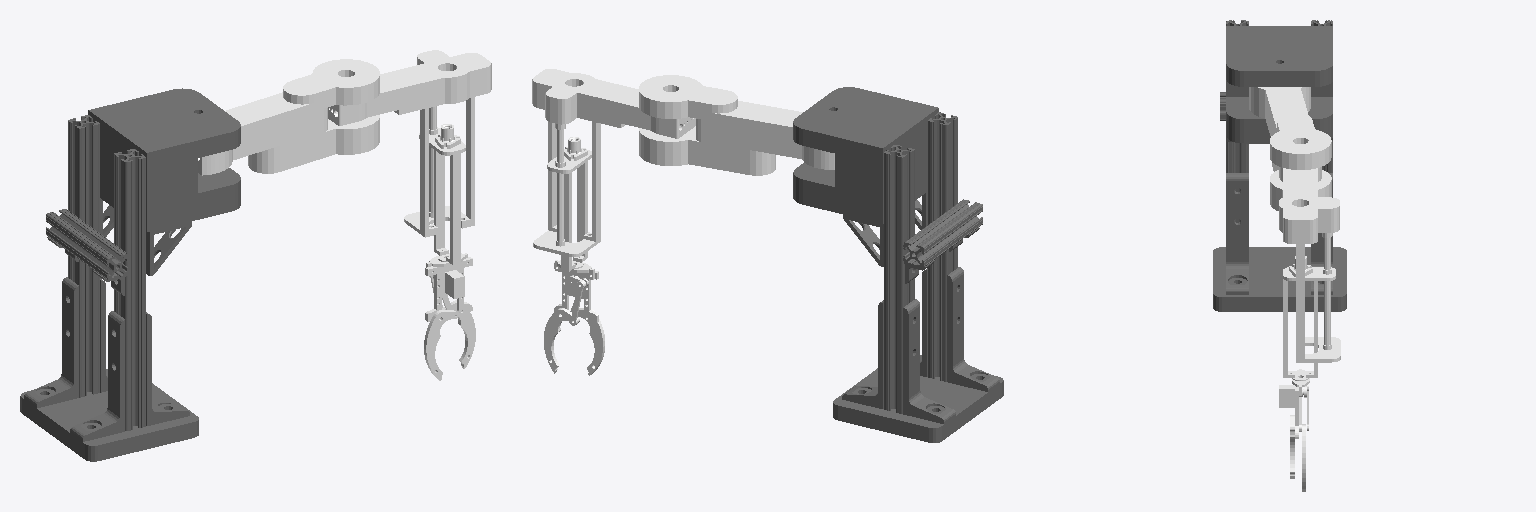
robot.urdf — RRPRv.5:
<?xml version="1.0" encoding="utf-8"?>
<!-- This URDF was automatically created by SolidWorks to URDF Exporter! Originally created by [author] ([email redacted]) 
     Commit Version: 1.5.1-0-g916b5db  Build Version: 1.5.7152.31018
     For more information, please see http://wiki.ros.org/sw_urdf_exporter -->
<robot
  name="RRPRv.5">
  <link
    name="base_link">
    <inertial>
      <origin
        xyz="0.0286663333569336 -0.000153640310158298 0.141057810420415"
        rpy="0 0 0" />
      <mass
        value="2.56495028593534" />
      <inertia
        ixx="0.00589103688522398"
        ixy="5.40553301340664E-11"
        ixz="6.43227315708912E-05"
        iyy="0.00538157308192533"
        iyz="-3.59280381550706E-12"
        izz="0.00615538322045417" />
    </inertial>
    <visual>
      <origin
        xyz="0 0 0"
        rpy="0 0 0" />
      <geometry>
        <mesh
          filename="package://RRPRv.5/meshes/base_link.STL" />
      </geometry>
      <material
        name="">
        <color
          rgba="0.501960784313725 0.501960784313725 0.501960784313725 1" />
      </material>
    </visual>
    <collision>
      <origin
        xyz="0 0 0"
        rpy="0 0 0" />
      <geometry>
        <mesh
          filename="package://RRPRv.5/meshes/base_link.STL" />
      </geometry>
    </collision>
  </link>
  <link
    name="Link1">
    <inertial>
      <origin
        xyz="0.116433954067944 0.014456832240029 0.0384712439474499"
        rpy="0 0 0" />
      <mass
        value="0.568507286781673" />
      <inertia
        ixx="0.000423004929235135"
        ixy="-0.00022516513393317"
        ixz="0.000122650311410491"
        iyy="0.00220850626547171"
        iyz="1.52286765961289E-05"
        izz="0.00210823760330215" />
    </inertial>
    <visual>
      <origin
        xyz="0 0 0"
        rpy="0 0 0" />
      <geometry>
        <mesh
          filename="package://RRPRv.5/meshes/Link1.STL" />
      </geometry>
      <material
        name="">
        <color
          rgba="1 1 1 1" />
      </material>
    </visual>
    <collision>
      <origin
        xyz="0 0 0"
        rpy="0 0 0" />
      <geometry>
        <mesh
          filename="package://RRPRv.5/meshes/Link1.STL" />
      </geometry>
    </collision>
  </link>
  <joint
    name="Joint1"
    type="revolute">
    <origin
      xyz="0.105705802967444 -0.000160096560565315 0.223882223455255"
      rpy="0 0 0" />
    <parent
      link="base_link" />
    <child
      link="Link1" />
    <axis
      xyz="0 0 1" />
    <limit
      lower="-2"
      upper="2"
      effort="0"
      velocity="1" />
  </joint>
  <link
    name="Link2">
    <inertial>
      <origin
        xyz="0.0829498912742019 0.00283016633079727 0.00977088530359427"
        rpy="0 0 0" />
      <mass
        value="0.212874058038776" />
      <inertia
        ixx="6.57074308602495E-05"
        ixy="-1.74128836487361E-05"
        ixz="8.48237883077507E-06"
        iyy="0.000390393473487716"
        iyz="7.84228298422966E-07"
        izz="0.000425987376929658" />
    </inertial>
    <visual>
      <origin
        xyz="0 0 0"
        rpy="0 0 0" />
      <geometry>
        <mesh
          filename="package://RRPRv.5/meshes/Link2.STL" />
      </geometry>
      <material
        name="">
        <color
          rgba="1 1 1 1" />
      </material>
    </visual>
    <collision>
      <origin
        xyz="0 0 0"
        rpy="0 0 0" />
      <geometry>
        <mesh
          filename="package://RRPRv.5/meshes/Link2.STL" />
      </geometry>
    </collision>
  </link>
  <joint
    name="Joint2"
    type="revolute">
    <origin
      xyz="0.18855 0.023411 0.031"
      rpy="0 0 0" />
    <parent
      link="Link1" />
    <child
      link="Link2" />
    <axis
      xyz="0 0 1" />
    <limit
      lower="-2"
      upper="2"
      effort="0"
      velocity="1" />
  </joint>
  <link
    name="Tool">
    <inertial>
      <origin
        xyz="-9.72402702803521E-09 -0.00301465374734057 0.0350594165986704"
        rpy="0 0 0" />
      <mass
        value="0.0234300518411411" />
      <inertia
        ixx="4.54223226395574E-05"
        ixy="-6.58197486818163E-13"
        ixz="-4.12941640972723E-11"
        iyy="3.9840640795843E-05"
        iyz="-3.19273736468928E-06"
        izz="6.99260436220381E-06" />
    </inertial>
    <visual>
      <origin
        xyz="0 0 0"
        rpy="0 0 0" />
      <geometry>
        <mesh
          filename="package://RRPRv.5/meshes/Tool.STL" />
      </geometry>
      <material
        name="">
        <color
          rgba="1 1 1 1" />
      </material>
    </visual>
    <collision>
      <origin
        xyz="0 0 0"
        rpy="0 0 0" />
      <geometry>
        <mesh
          filename="package://RRPRv.5/meshes/Tool.STL" />
      </geometry>
    </collision>
  </link>
  <joint
    name="Tool1"
    type="prismatic">
    <origin
      xyz="0.120000000000001 0 -0.0661999999999999"
      rpy="-3.14159265358979 0 0" />
    <parent
      link="Link2" />
    <child
      link="Tool" />
    <axis
      xyz="0 0 1" />
    <limit
      lower="0"
      upper="0.06"
      effort="0"
      velocity="0.075" />
  </joint>
  <link
    name="Link_4">
    <inertial>
      <origin
        xyz="-0.00054307 0.0042151 0.043718"
        rpy="0 0 0" />
      <mass
        value="0.031206" />
      <inertia
        ixx="8.5444E-06"
        ixy="-2.4024E-12"
        ixz="-2.8113E-07"
        iyy="1.1073E-05"
        iyz="-4.1279E-08"
        izz="3.5787E-06" />
    </inertial>
    <visual>
      <origin
        xyz="0 0 0"
        rpy="0 0 0" />
      <geometry>
        <mesh
          filename="package://RRPRv.5/meshes/Link_4.STL" />
      </geometry>
      <material
        name="">
        <color
          rgba="1 1 1 0.32" />
      </material>
    </visual>
    <collision>
      <origin
        xyz="0 0 0"
        rpy="0 0 0" />
      <geometry>
        <mesh
          filename="package://RRPRv.5/meshes/Link_4.STL" />
      </geometry>
    </collision>
  </link>
  <joint
    name="Revolute4"
    type="revolute">
    <origin
      xyz="0.000137010778993973 0 0.125"
      rpy="0 0 0" />
    <parent
      link="Tool" />
    <child
      link="Link_4" />
    <axis
      xyz="0 0 1" />
    <limit
      lower="0"
      upper="1.57"
      effort="0"
      velocity="3" />
  </joint>
  <link
    name="RigidBody">
    <inertial>
      <origin
        xyz="2.87771436613404E-06 -0.0173929119730617 0.0320554627815183"
        rpy="0 0 0" />
      <mass
        value="0.0449807260778654" />
      <inertia
        ixx="7.00183446612558E-05"
        ixy="9.95742445982749E-10"
        ixz="-9.21738417998538E-12"
        iyy="7.15602703777899E-05"
        iyz="-4.05681886933872E-09"
        izz="5.3618551938514E-06" />
    </inertial>
    <visual>
      <origin
        xyz="0 0 0"
        rpy="0 0 0" />
      <geometry>
        <mesh
          filename="package://RRPRv.5/meshes/RigidBody.STL" />
      </geometry>
      <material
        name="">
        <color
          rgba="1 1 1 1" />
      </material>
    </visual>
    <collision>
      <origin
        xyz="0 0 0"
        rpy="0 0 0" />
      <geometry>
        <mesh
          filename="package://RRPRv.5/meshes/RigidBody.STL" />
      </geometry>
    </collision>
  </link>
  <joint
    name="Fixed_Body"
    type="fixed">
    <origin
      xyz="0.120000000000001 0 -0.0661999999999999"
      rpy="-3.14159265358979 0 0" />
    <parent
      link="Link2" />
    <child
      link="RigidBody" />
    <axis
      xyz="0 0 0" />
    <limit
      lower="0"
      upper="0"
      effort="0"
      velocity="0" />
    <safety_controller
      soft_upper="0"
      soft_lower="0"
      k_position="0"
      k_velocity="0" />
  </joint>
</robot>

--- Render facts (derived) ---
The picture shows the robot from 3 angles, left to right: view 1: azimuth 30°, elevation 25°; view 2: azimuth 150°, elevation 25°; view 3: azimuth 270°, elevation 25°; orthographic projection.
Robot: RRPRv.5 — 6 links, 5 joints (3 revolute, 1 prismatic, 1 fixed); root link base_link; default pose: every joint at zero.
Links seen in each view (by area): view 1: base_link, Link1, Link2, Link_4, RigidBody, Tool; view 2: base_link, Link1, Link2, RigidBody, Link_4, Tool; view 3: base_link, Link1, Link2, RigidBody, Link_4, Tool.
Link boxes in pixels (<box>): base_link: <box>20,88,240,461</box>; Link1: <box>198,59,379,175</box>; Link2: <box>328,50,491,125</box>; Link_4: <box>424,253,475,380</box>; RigidBody: <box>404,97,474,237</box>; Tool: <box>419,124,465,264</box>; base_link: <box>793,87,1003,442</box>; Link1: <box>639,75,834,175</box>; Link2: <box>532,69,695,138</box>; RigidBody: <box>533,121,600,256</box>; Link_4: <box>544,260,604,375</box>; Tool: <box>547,137,591,271</box>; base_link: <box>1213,20,1346,311</box>; Link1: <box>1249,87,1331,210</box>; Link2: <box>1279,167,1339,243</box>; RigidBody: <box>1296,238,1340,362</box>; Link_4: <box>1279,369,1309,491</box>; Tool: <box>1283,256,1335,377</box>.
Size in the robot's own frame: 0.5258 by 0.15 by 0.3793 metres.
6 mesh visuals loaded from 6 distinct referenced files (6 binary STL).